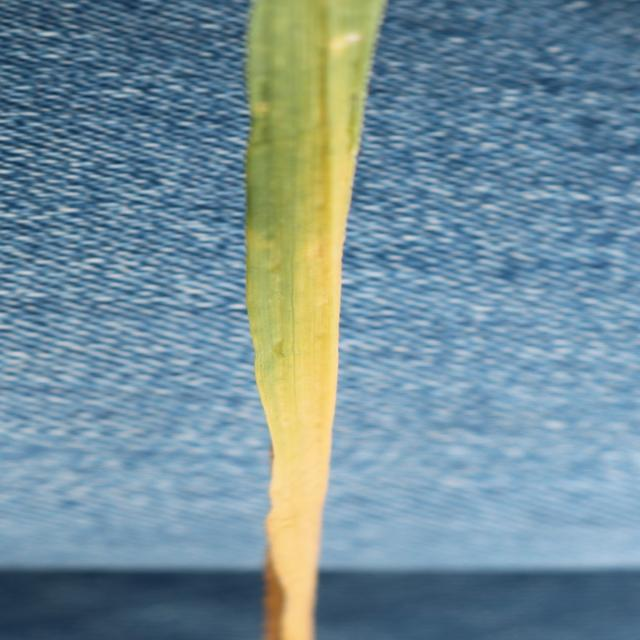Septoria: (241, 1, 392, 637)
